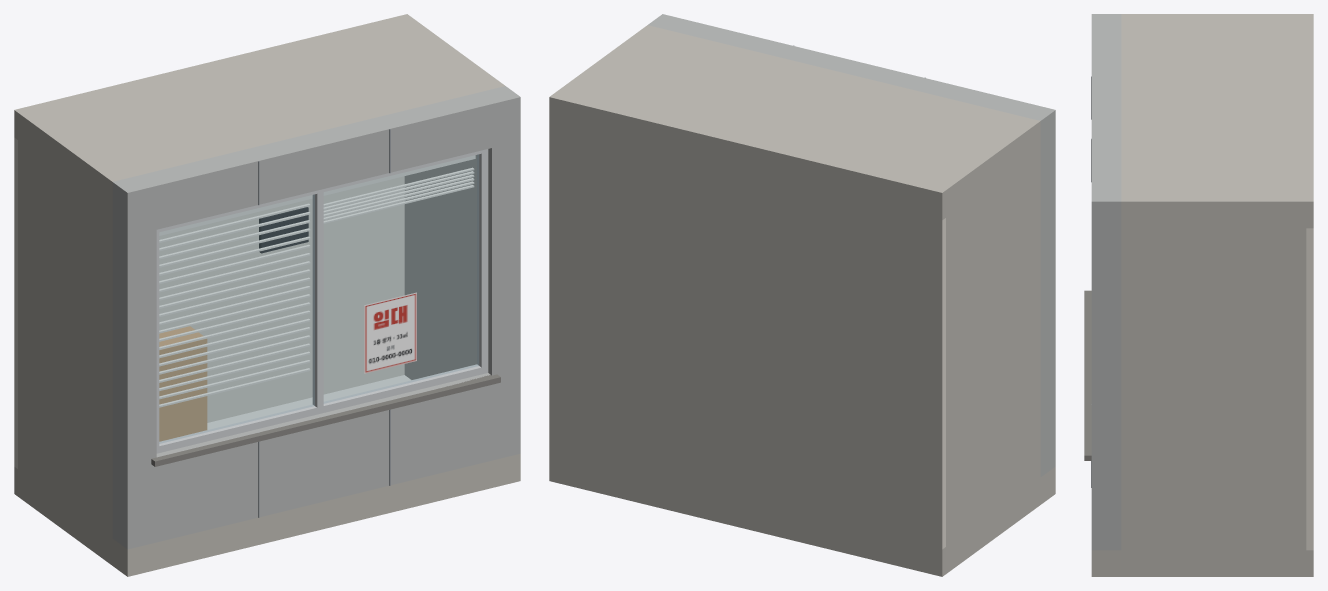
Rendered from SC_Shop_Office_2F.gltf.
The picture shows the model from 3 angles, left to right: view 1: azimuth 30°, elevation 25°; view 2: azimuth 150°, elevation 25°; view 3: azimuth 270°, elevation 25°; orthographic projection. The views are drawn at different scales.
Visible parts, largest first — view 1: SC_Shop_Office_2F; view 2: SC_Shop_Office_2F; view 3: SC_Shop_Office_2F.
Part boxes in pixels (left/top/right/bottom): SC_Shop_Office_2F: left=14, top=14, right=520, bottom=576; SC_Shop_Office_2F: left=549, top=14, right=1055, bottom=576; SC_Shop_Office_2F: left=1084, top=14, right=1313, bottom=576.
Bounding box in the file's own units: 3 × 2.8 × 1.55.
4 materials, 4 textured.
